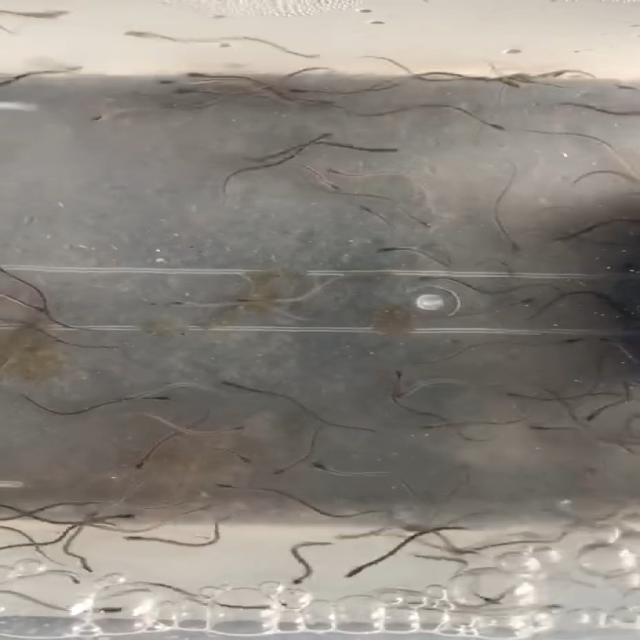active_glass_eel: (113, 27, 173, 41), (152, 295, 206, 309), (306, 456, 338, 474), (229, 449, 262, 465), (329, 164, 364, 179), (95, 602, 132, 615), (416, 272, 456, 284), (118, 532, 157, 544), (502, 386, 535, 400), (424, 418, 459, 431), (532, 70, 564, 84), (210, 375, 242, 389), (63, 573, 92, 588), (355, 201, 386, 215), (232, 295, 268, 307), (117, 391, 147, 405), (126, 455, 150, 472), (104, 511, 138, 523), (316, 176, 344, 190), (474, 593, 504, 606), (208, 480, 240, 492), (80, 508, 104, 524), (494, 77, 523, 90), (503, 240, 525, 257), (286, 572, 309, 588), (220, 423, 248, 436), (342, 566, 368, 580), (142, 392, 178, 402), (391, 369, 412, 386), (583, 406, 605, 422), (393, 387, 420, 400), (313, 128, 338, 142), (485, 120, 514, 132), (23, 305, 52, 317), (287, 86, 325, 95), (271, 463, 296, 476), (92, 111, 119, 123), (529, 423, 568, 431), (158, 76, 189, 86), (182, 70, 210, 81), (560, 334, 590, 344), (170, 87, 201, 96), (513, 298, 544, 307), (593, 334, 619, 344), (370, 247, 398, 256), (416, 220, 438, 229)
